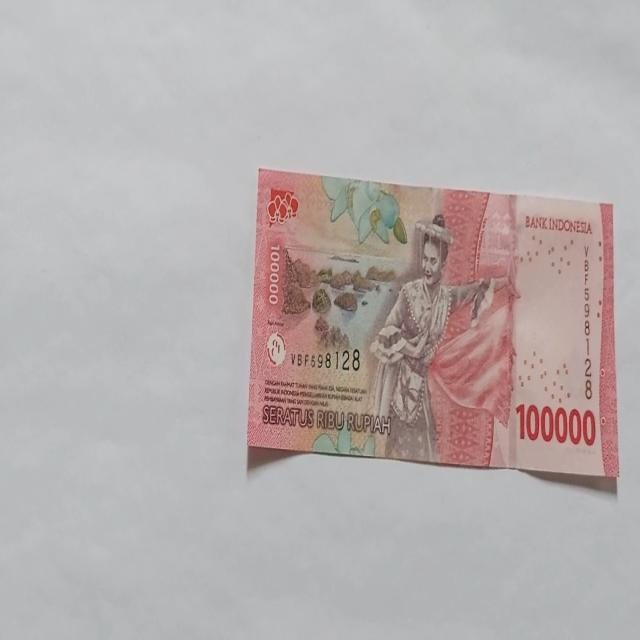seratus ribu rupiah: (247, 169, 618, 479), (364, 212, 516, 466)
